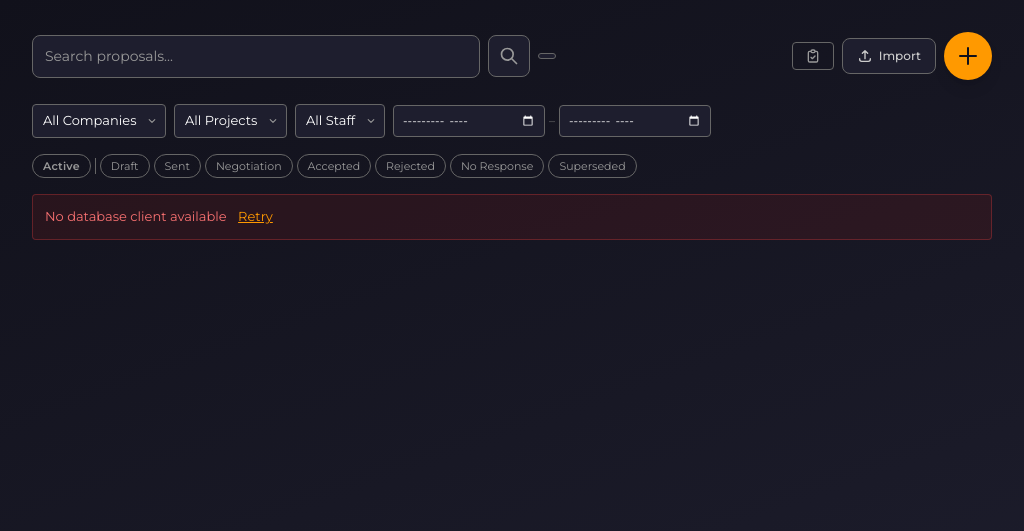
it: Proposals page - load error visibility › retries the load when the Retry button is clicked, clearing the error on success
This screenshot has width=1024, height=531.
Click the button "Retry" at (255, 217), box [238,207,273,226]
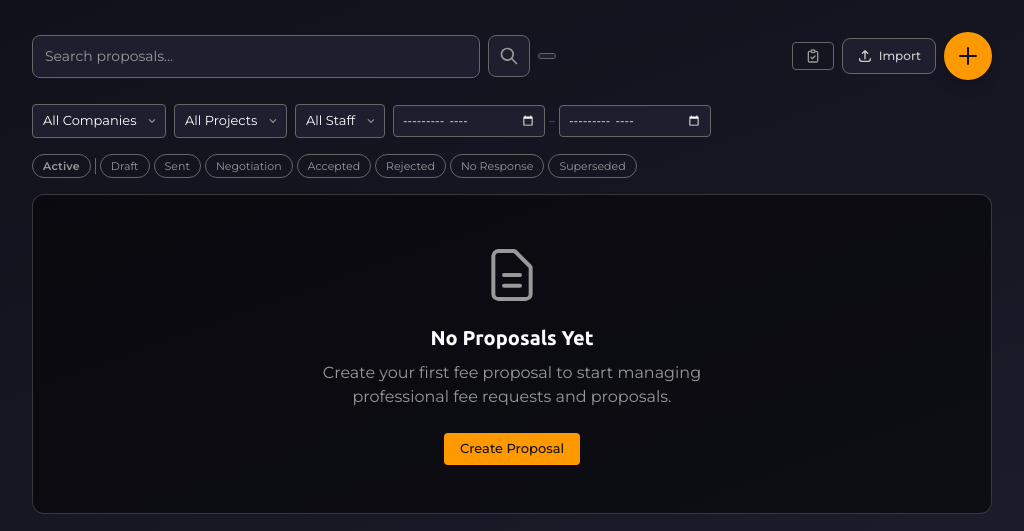
Expected: the text "No database client available" is gone
Expected: the heading "No Proposals Yet" is shown, [430,323,594,353]
